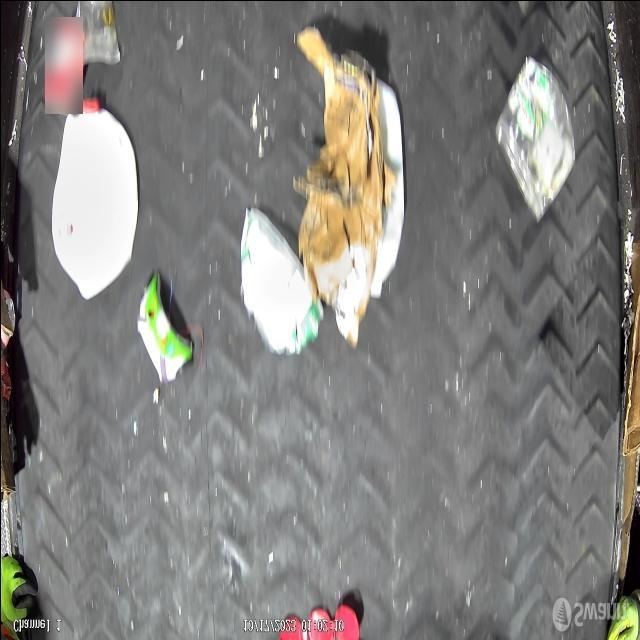milk_jug: (48, 94, 138, 304)
